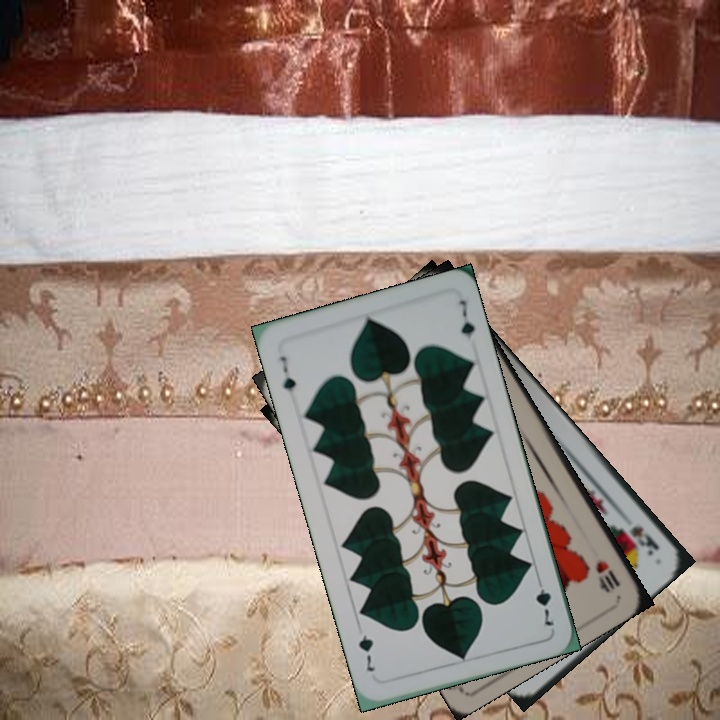G7: (531, 573, 557, 629), (275, 352, 299, 395)
H10: (591, 556, 623, 594)
SK: (625, 522, 662, 558)
